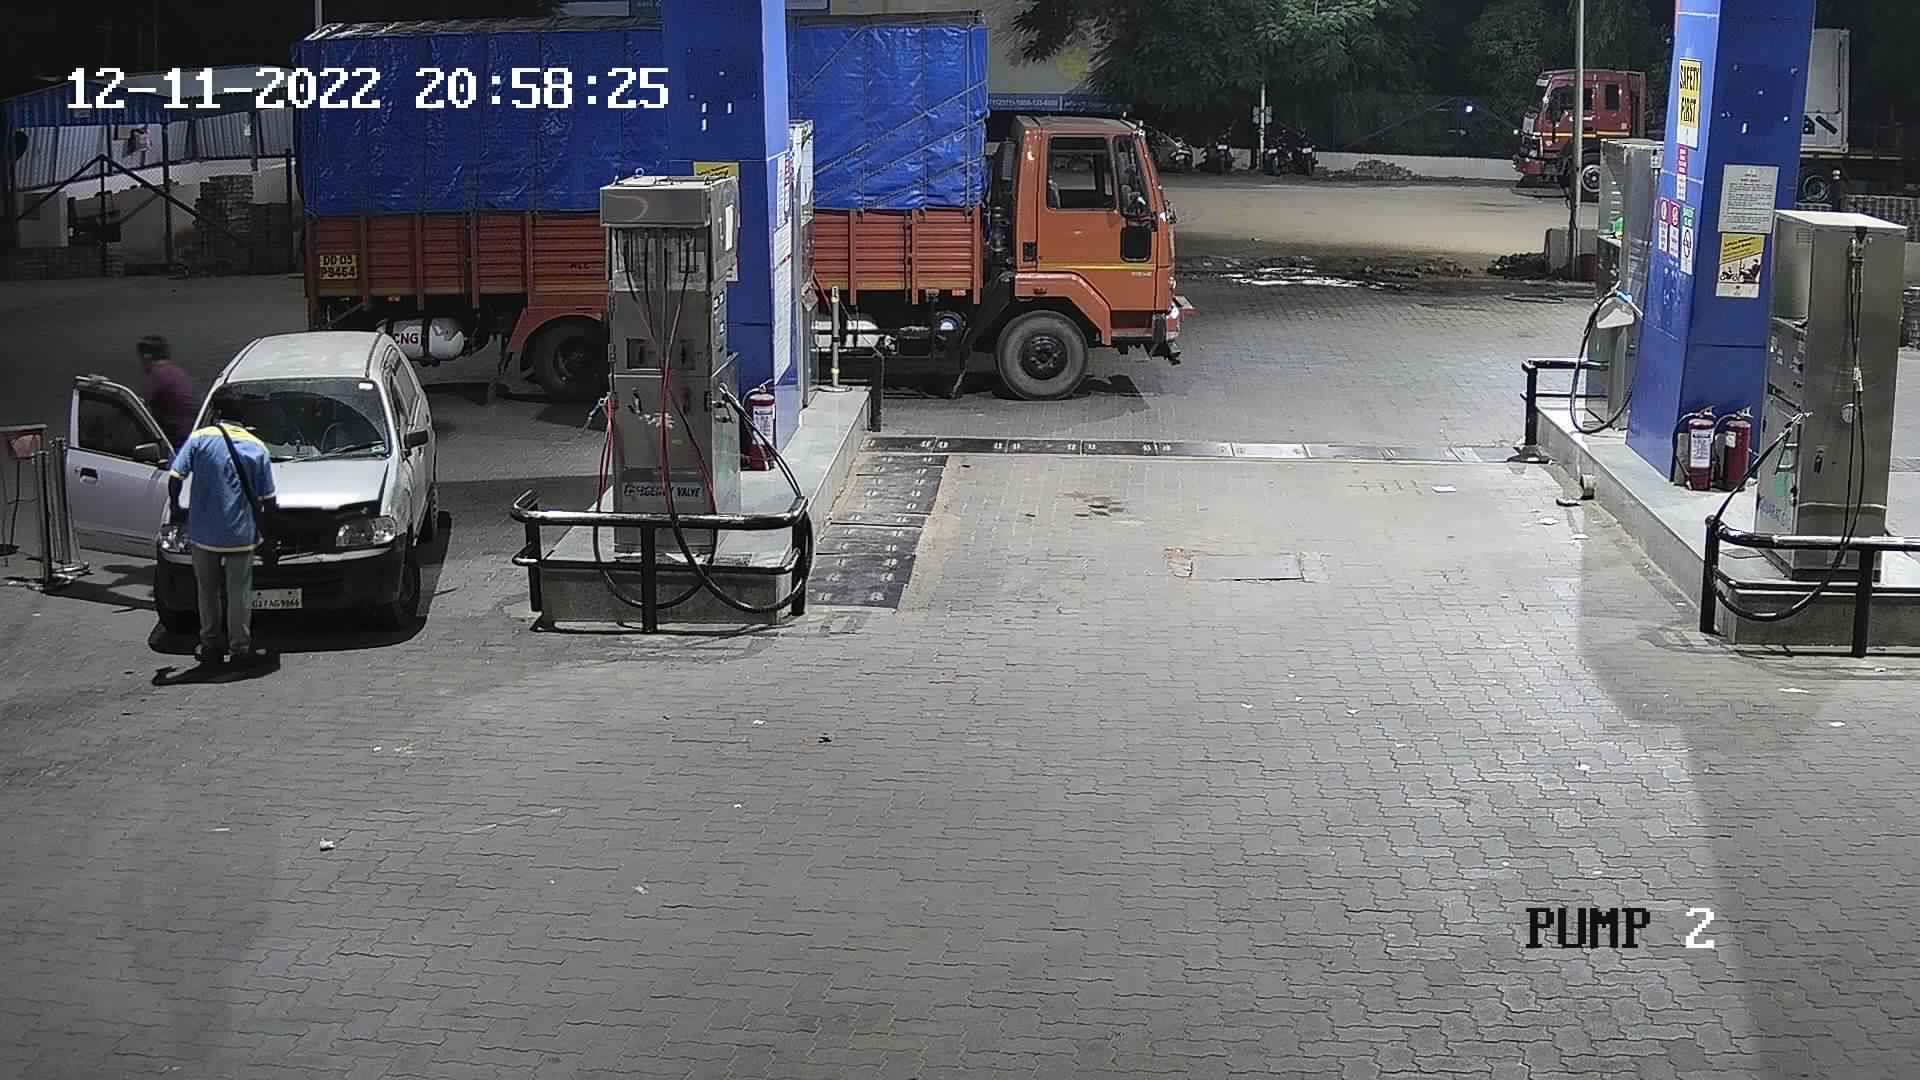Bike: (1204, 111, 1245, 182), (1158, 113, 1200, 181), (1249, 116, 1290, 185), (1283, 113, 1324, 179)
Car: (55, 330, 468, 628)
HMV: (777, 0, 1207, 407), (1497, 55, 1675, 208)
Others: (156, 377, 282, 676)
